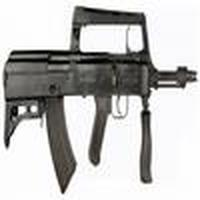gun: (1, 10, 200, 150)
